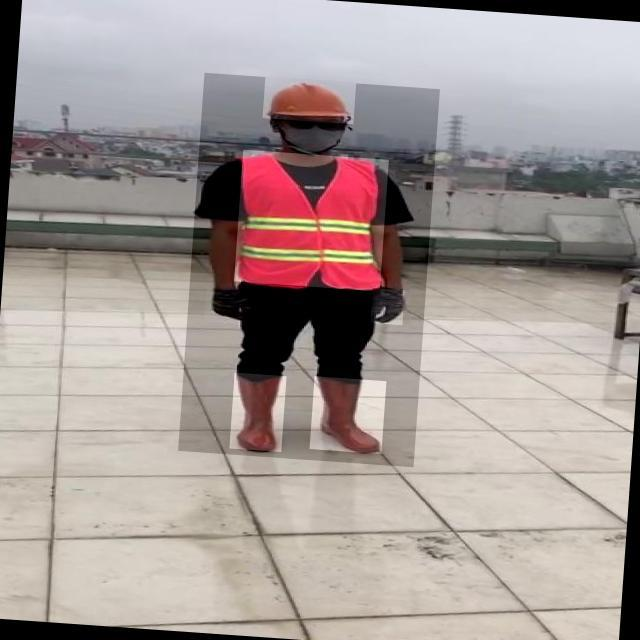Gloves: (205, 287, 257, 324), (370, 288, 404, 325)
Helmet: (262, 76, 356, 124)
Human: (178, 72, 440, 467)
Safety Boot: (309, 376, 386, 454), (229, 373, 286, 452)
Safety Vest: (234, 149, 389, 291)
